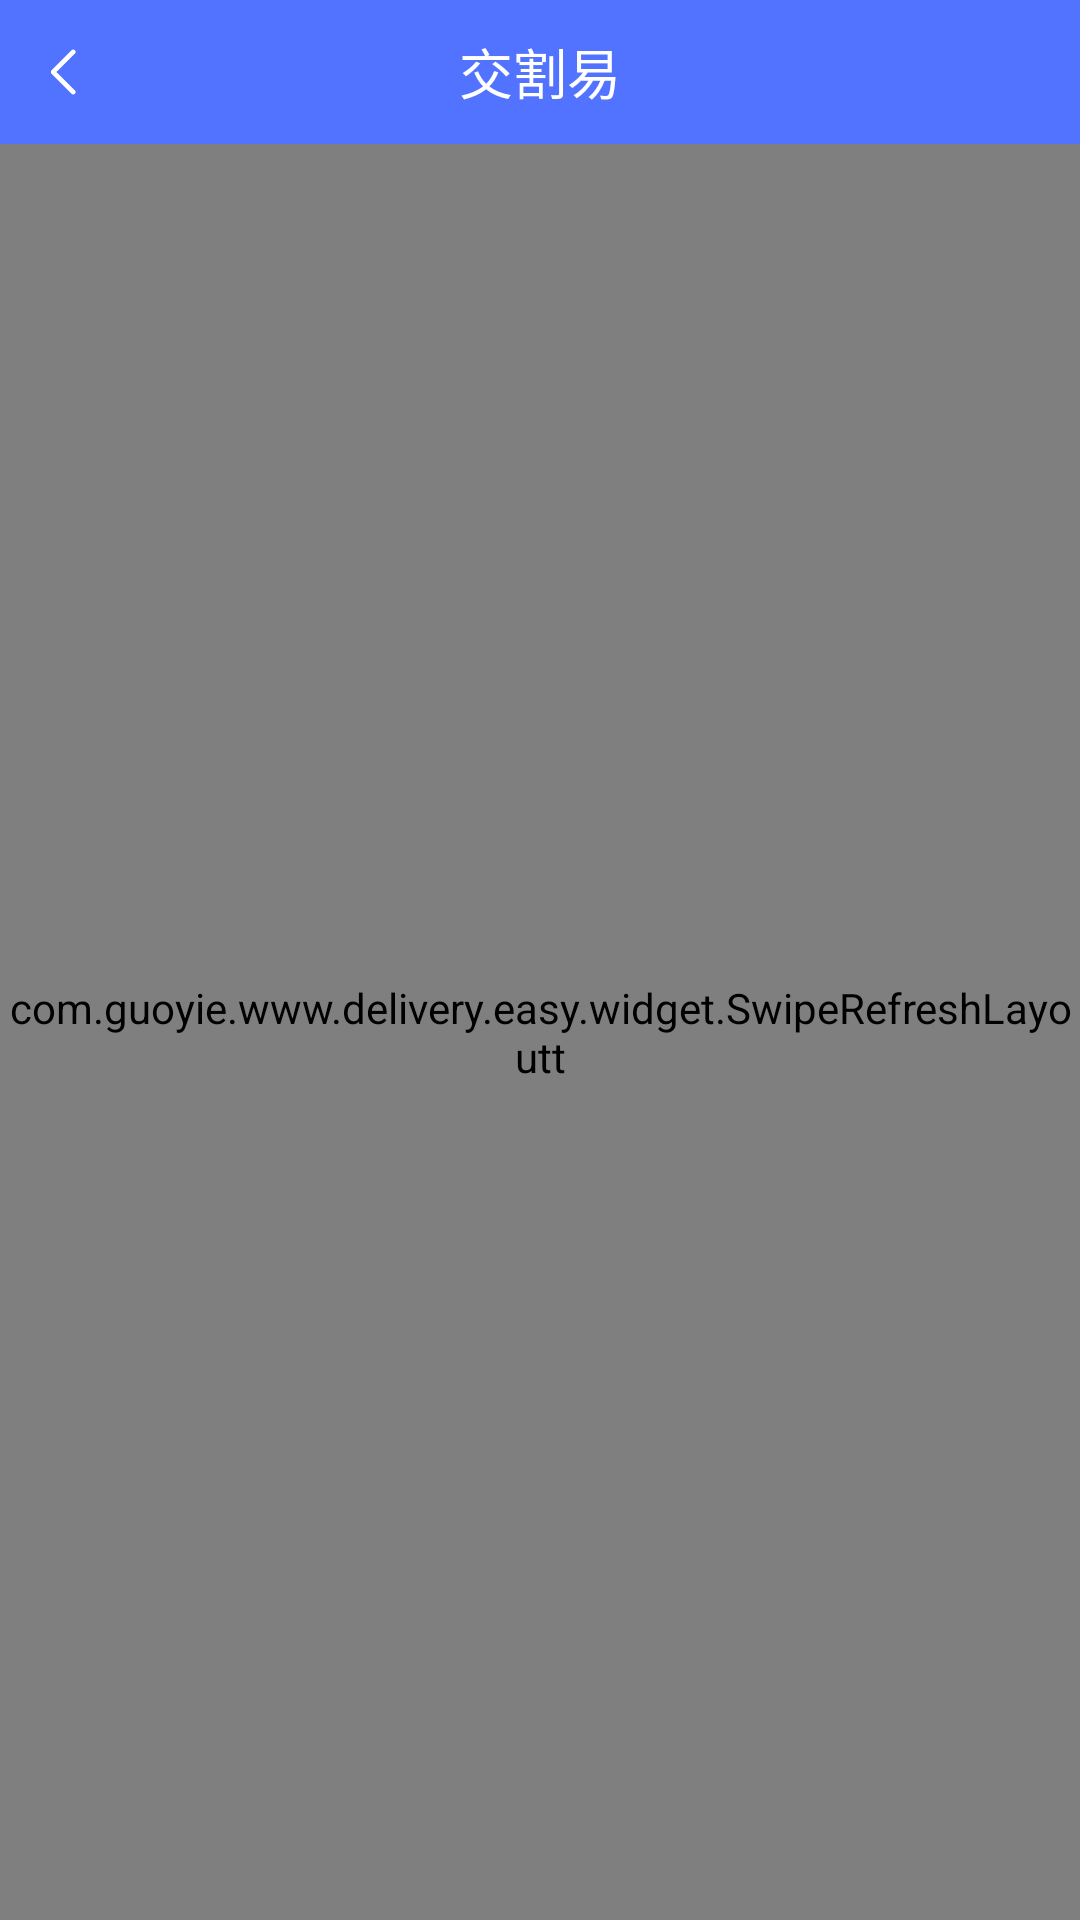

Screen size 1080px x 1920px. Icon name, then its center in pixels as point (x, y):
left arrow: point (63, 72)
